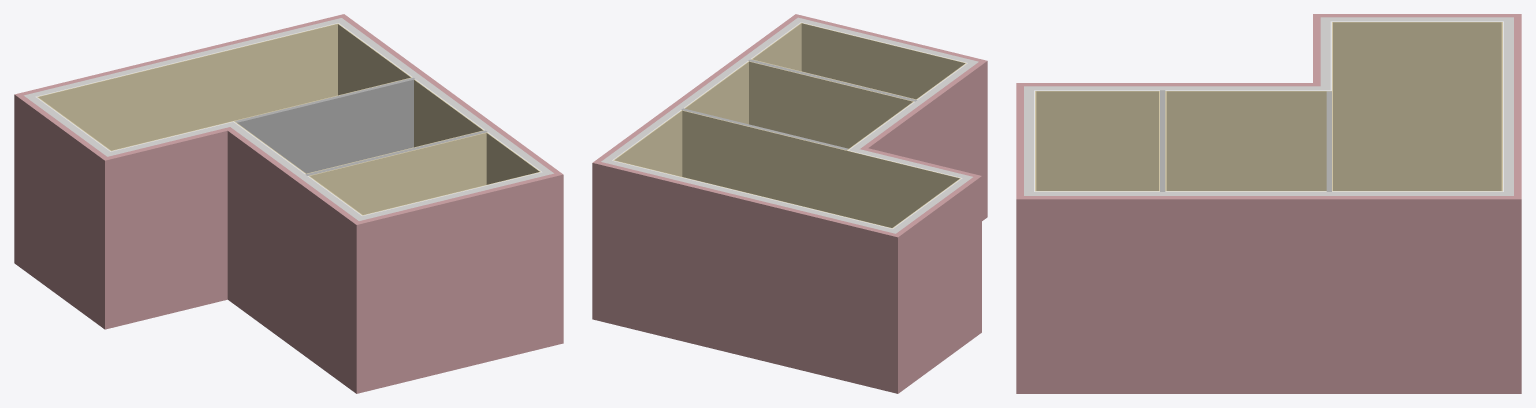
File: apartment.glb
3 renders of one model, left to right at view 1: azimuth 30°, elevation 25°; view 2: azimuth 150°, elevation 25°; view 3: azimuth 270°, elevation 25°, orthographic. The views are drawn at different scales.
Parts seen in each view (by area): view 1: 4c7e3476-578d-4ebd-89af-dd0d1bf2bb9f_mesh, d9be563e-5ae9-4700-a32e-440509debc26_mesh, 54cd9e97-ea69-4b5f-b2ef-4dbd4d3fd527_mesh, 65a72a2f-6bb8-4f76-8337-0ffaaf3af1ca_mesh, 076f4651-45de-42d6-b0fe-8fbb2b4eb1a0_mesh, 0214eca3-e7e3-4b40-a012-a159ed14a91b_mesh, 73a230f8-51a3-42e3-adb6-63508de3ae4c_mesh, cc7bdf87-2bfc-4316-b112-713a5994c686_mesh, 8ad6b790-e57c-41ad-93fb-00f89c59462d_mesh, c9970fe2-e53b-43b2-bebb-886f6578f45c_mesh, 469f16df-8e1a-441b-8cea-5f25230446d7_mesh, 5204c808-8b07-421f-bb01-4137cb05bf63_mesh (+24 smaller); view 2: 1db365a9-92dd-4d63-b9d2-f7c94420f131_mesh, 65a72a2f-6bb8-4f76-8337-0ffaaf3af1ca_mesh, d9be563e-5ae9-4700-a32e-440509debc26_mesh, a75a7945-29dd-4076-b38b-96438c1fcdda_mesh, 0f0eab0d-619d-4ed6-ac9e-77823ed87b4e_mesh, 64ab197d-3c7a-4960-8e64-18d279432180_mesh, fc962f5a-1729-4700-ae5e-650cca9150c9_mesh, 1b838707-aeea-4fb0-a068-0e079dc03443_mesh, 977241ef-82b2-435a-bef8-0507824b5015_mesh, 55212f1d-66a9-4959-ab2f-945fa6970274_mesh, c423ce34-dbe5-4565-9f12-bfb0f644218e_mesh, 3a9b11ad-71a3-4eb7-830d-ce60439f2065_mesh (+30 smaller); view 3: b159506c-601a-422b-be0b-fef2a0e1ec6c_mesh, 53057e1b-588a-4698-9acd-8a3523f2c1e7_mesh, a88d259f-799b-4fde-87fd-715a53b29467_mesh, 7cf1428d-6093-4262-aef7-861ff6531d86_mesh, 6e824c68-c4a7-4780-99fc-67a7403cda38_mesh, 2f756803-d3c4-4256-a5a2-2ca4ee16e9ae_mesh, 1db365a9-92dd-4d63-b9d2-f7c94420f131_mesh, ac3021d1-db2b-45b3-a58e-b1abef234422_mesh, d56ee36b-5137-4705-b8f1-e4677b4ddd63_mesh, ae8051e6-1cce-4e0b-acb3-e10dff04325f_mesh, 4c7e3476-578d-4ebd-89af-dd0d1bf2bb9f_mesh, a6660a90-37ac-479f-8e66-b271d0442cf1_mesh (+14 smaller).
Part boxes in pixels (<box>): 4c7e3476-578d-4ebd-89af-dd0d1bf2bb9f_mesh: <box>353,172,563,393</box>; d9be563e-5ae9-4700-a32e-440509debc26_mesh: <box>225,127,358,390</box>; 54cd9e97-ea69-4b5f-b2ef-4dbd4d3fd527_mesh: <box>101,128,227,329</box>; 65a72a2f-6bb8-4f76-8337-0ffaaf3af1ca_mesh: <box>14,93,106,326</box>; 076f4651-45de-42d6-b0fe-8fbb2b4eb1a0_mesh: <box>235,77,415,173</box>; 0214eca3-e7e3-4b40-a012-a159ed14a91b_mesh: <box>176,70,245,134</box>; 73a230f8-51a3-42e3-adb6-63508de3ae4c_mesh: <box>245,54,314,117</box>; cc7bdf87-2bfc-4316-b112-713a5994c686_mesh: <box>107,87,176,150</box>; 8ad6b790-e57c-41ad-93fb-00f89c59462d_mesh: <box>379,166,447,210</box>; c9970fe2-e53b-43b2-bebb-886f6578f45c_mesh: <box>245,29,314,70</box>; 469f16df-8e1a-441b-8cea-5f25230446d7_mesh: <box>107,63,176,104</box>; 5204c808-8b07-421f-bb01-4137cb05bf63_mesh: <box>176,46,245,87</box>; 1db365a9-92dd-4d63-b9d2-f7c94420f131_mesh: <box>592,160,895,392</box>; 65a72a2f-6bb8-4f76-8337-0ffaaf3af1ca_mesh: <box>892,177,978,393</box>; d9be563e-5ae9-4700-a32e-440509debc26_mesh: <box>860,62,984,220</box>; a75a7945-29dd-4076-b38b-96438c1fcdda_mesh: <box>782,157,846,216</box>; 0f0eab0d-619d-4ed6-ac9e-77823ed87b4e_mesh: <box>718,142,781,200</box>; 64ab197d-3c7a-4960-8e64-18d279432180_mesh: <box>847,173,911,227</box>; fc962f5a-1729-4700-ae5e-650cca9150c9_mesh: <box>785,93,848,148</box>; 1b838707-aeea-4fb0-a068-0e079dc03443_mesh: <box>801,46,864,86</box>; 977241ef-82b2-435a-bef8-0507824b5015_mesh: <box>865,61,928,99</box>; 55212f1d-66a9-4959-ab2f-945fa6970274_mesh: <box>682,133,717,185</box>; c423ce34-dbe5-4565-9f12-bfb0f644218e_mesh: <box>847,150,911,188</box>; 3a9b11ad-71a3-4eb7-830d-ce60439f2065_mesh: <box>782,134,846,172</box>; b159506c-601a-422b-be0b-fef2a0e1ec6c_mesh: <box>1024,196,1513,393</box>; 53057e1b-588a-4698-9acd-8a3523f2c1e7_mesh: <box>1333,50,1424,190</box>; a88d259f-799b-4fde-87fd-715a53b29467_mesh: <box>1425,50,1501,190</box>; 7cf1428d-6093-4262-aef7-861ff6531d86_mesh: <box>1068,119,1158,190</box>; 6e824c68-c4a7-4780-99fc-67a7403cda38_mesh: <box>1241,119,1326,190</box>; 2f756803-d3c4-4256-a5a2-2ca4ee16e9ae_mesh: <box>1166,119,1240,190</box>; 1db365a9-92dd-4d63-b9d2-f7c94420f131_mesh: <box>1514,17,1521,393</box>; ac3021d1-db2b-45b3-a58e-b1abef234422_mesh: <box>1333,22,1424,50</box>; d56ee36b-5137-4705-b8f1-e4677b4ddd63_mesh: <box>1068,91,1159,119</box>; ae8051e6-1cce-4e0b-acb3-e10dff04325f_mesh: <box>1241,91,1332,119</box>; 4c7e3476-578d-4ebd-89af-dd0d1bf2bb9f_mesh: <box>1016,83,1023,393</box>; a6660a90-37ac-479f-8e66-b271d0442cf1_mesh: <box>1036,119,1067,190</box>.
Size of the model in its own units: 5.72 by 2.8 by 6.59.
